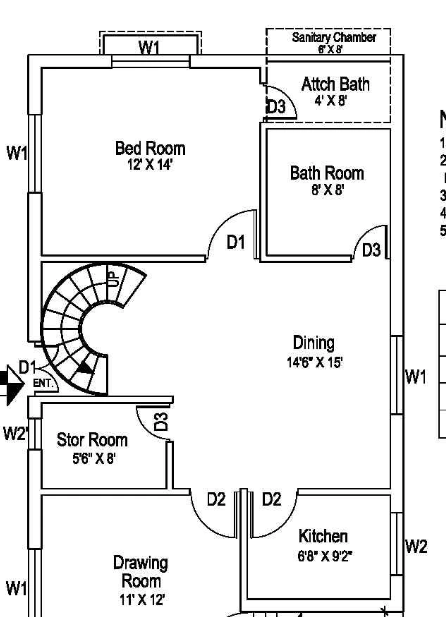door: (196, 203, 263, 276), (186, 473, 239, 555), (249, 477, 300, 547), (256, 83, 300, 129)
window: (379, 324, 415, 428), (108, 46, 194, 87), (21, 103, 51, 200), (380, 504, 413, 581), (22, 543, 52, 617), (19, 409, 50, 460)
